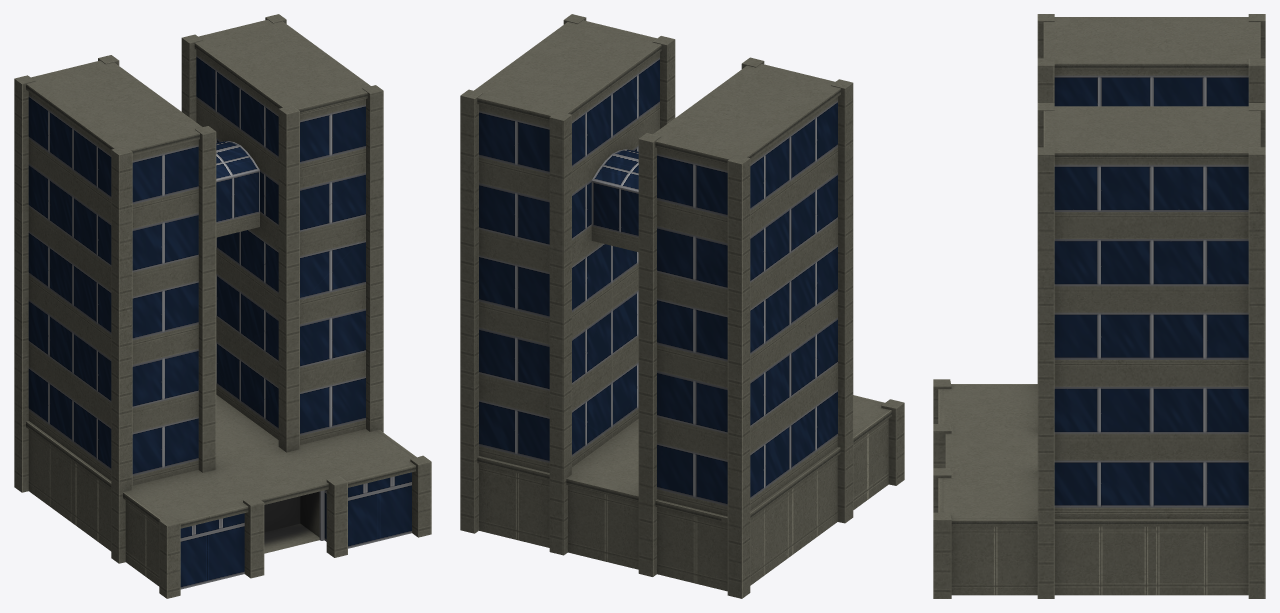
The model's file is sb_obj_ModernCity005_buil_b2.fbx.
3 renders of one model, left to right at view 1: azimuth 30°, elevation 25°; view 2: azimuth 150°, elevation 25°; view 3: azimuth 270°, elevation 25°, orthographic. The views are drawn at different scales.
Visible parts, largest first — view 1: sb_obj_ModernCity005_buil_b2; view 2: sb_obj_ModernCity005_buil_b2; view 3: sb_obj_ModernCity005_buil_b2.
Part boxes in pixels (box(x1,y1,x2,y2)): sb_obj_ModernCity005_buil_b2: box(14, 14, 431, 598); sb_obj_ModernCity005_buil_b2: box(460, 14, 904, 598); sb_obj_ModernCity005_buil_b2: box(933, 14, 1265, 598).
Size of the model in its own units: 6.78 by 10 by 6.78.
